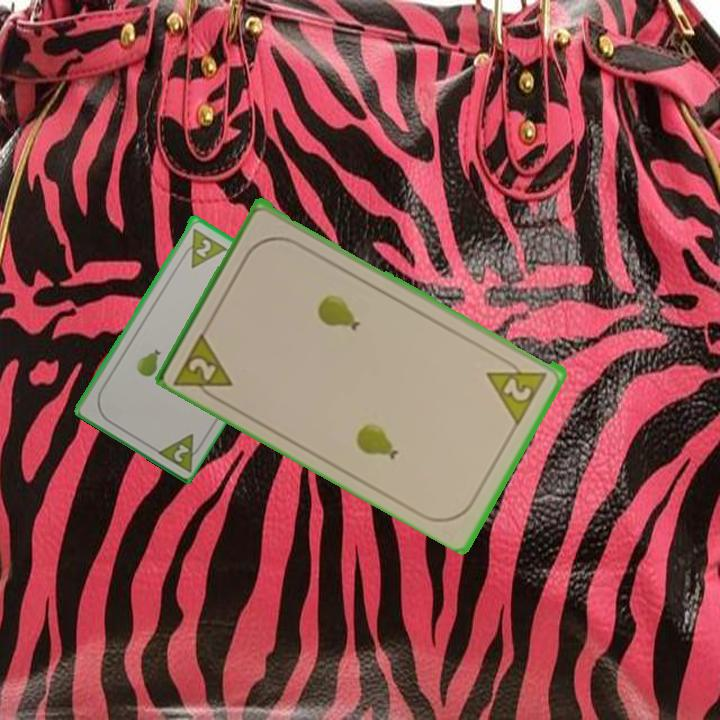2p: (483, 353, 550, 426), (152, 429, 207, 474), (176, 224, 228, 271), (185, 353, 220, 384)
